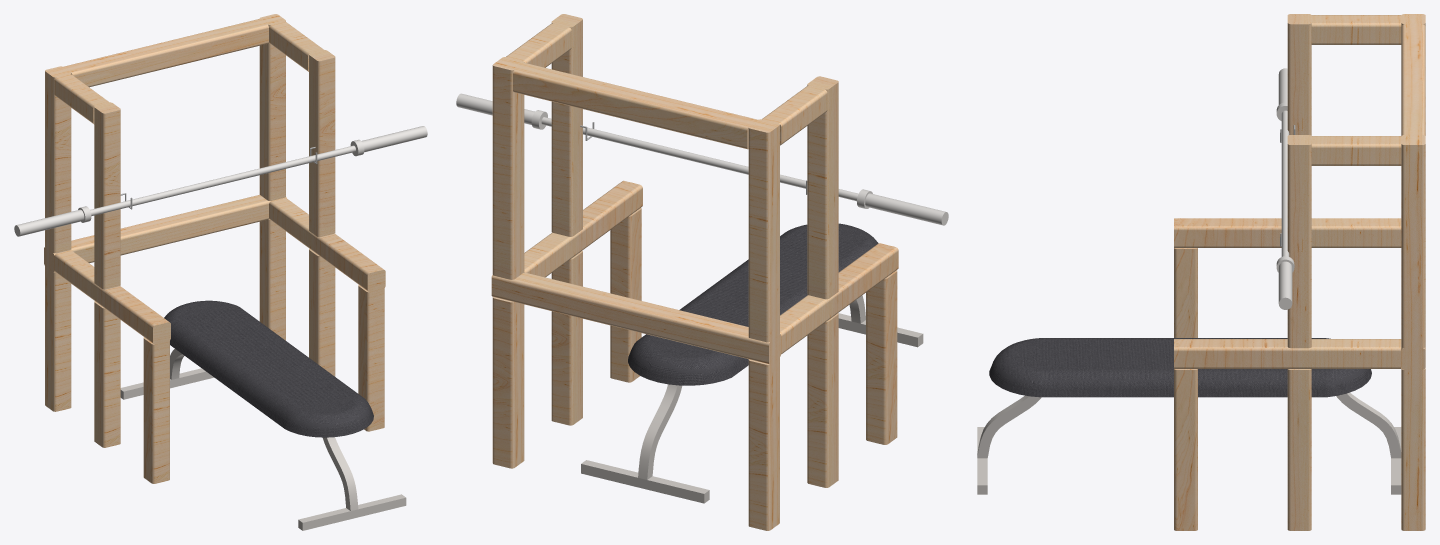
Rendered from squatrackassembly.glb.
3 views of the same model, side by side, from view 1: azimuth 30°, elevation 25°; view 2: azimuth 150°, elevation 25°; view 3: azimuth 270°, elevation 25° (orthographic). The views are drawn at different scales.
Visible parts, largest first — view 1: SquatRack-1, Bench-1, Barbell-1; view 2: SquatRack-1, Bench-1, Barbell-1; view 3: SquatRack-1, Bench-1, Barbell-1.
Part boxes in pixels (x1,y1,x2,y2): SquatRack-1: (44, 14, 385, 483); Bench-1: (120, 300, 406, 530); Barbell-1: (14, 126, 427, 236); SquatRack-1: (491, 14, 898, 530); Bench-1: (581, 223, 923, 503); Barbell-1: (456, 93, 948, 225); SquatRack-1: (1174, 14, 1425, 530); Bench-1: (977, 338, 1401, 494); Barbell-1: (1276, 68, 1294, 309).
Bounding box in the file's own units: 2 × 1.57 × 1.65.
Materials: 6 (3 with a texture image).
